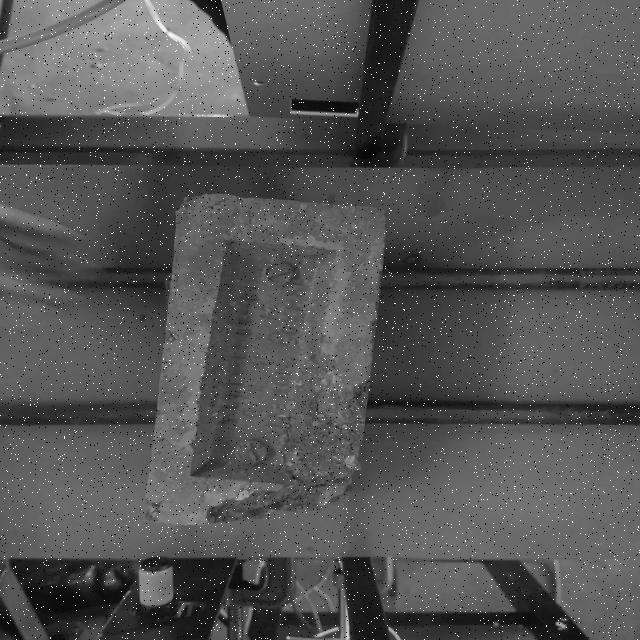bricks_ruin: (152, 194, 391, 523)
